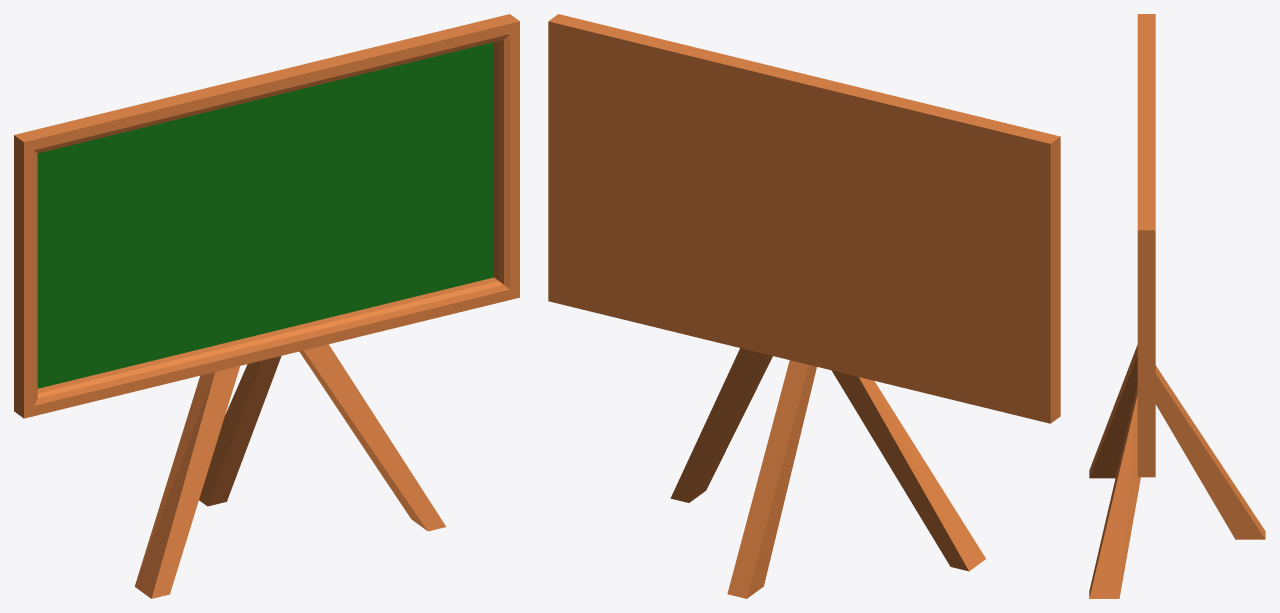
The model's file is papan_tulis.fbx.
The picture shows the model from 3 angles, left to right: view 1: azimuth 30°, elevation 25°; view 2: azimuth 150°, elevation 25°; view 3: azimuth 270°, elevation 25°; orthographic projection. The views are drawn at different scales.
Visible parts, largest first — view 1: Cube; view 2: Cube; view 3: Cube.
Part boxes in pixels (x1,y1,x2,y2): Cube: [14, 14, 519, 598]; Cube: [548, 14, 1060, 598]; Cube: [1089, 14, 1265, 598].
Size of the model in its own units: 160 by 143 by 55.08.
